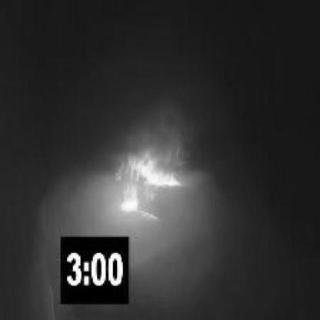Fire: (108, 150, 182, 222)
